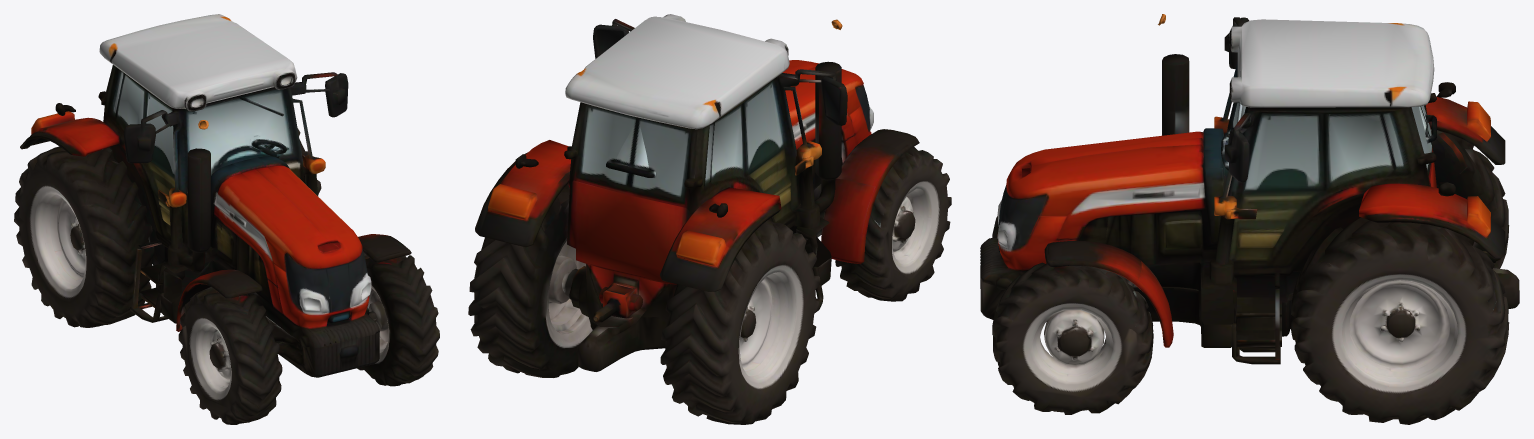
File: a_tractor_58a807c5_v4.glb
The picture shows the model from 3 angles, left to right: view 1: azimuth 30°, elevation 25°; view 2: azimuth 150°, elevation 25°; view 3: azimuth 270°, elevation 25°; orthographic projection. The views are drawn at different scales.
Visible parts, largest first — view 1: material; view 2: material; view 3: material.
Part boxes in pixels (x1,y1,x2,y2): material: (14, 14, 439, 424); material: (468, 14, 951, 424); material: (980, 14, 1519, 424).
Bounding box in the file's own units: 1.07 × 1.22 × 1.9.
1 material, 1 textured.
